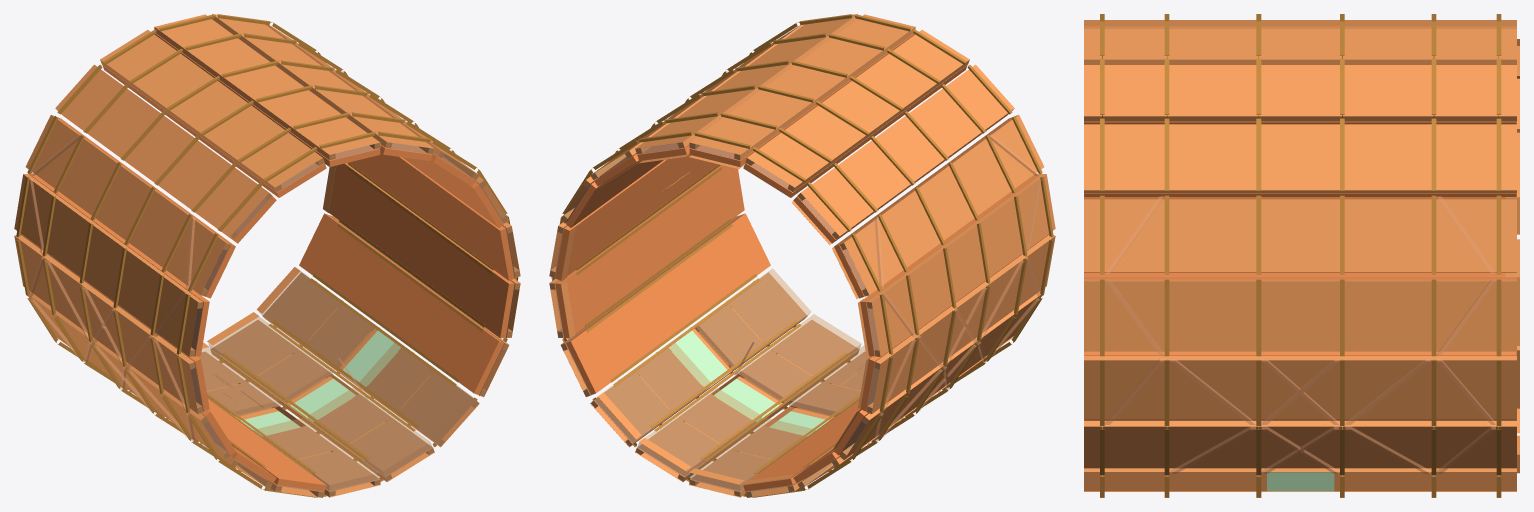
Rendered from TOF.glb.
The picture shows the model from 3 angles, left to right: view 1: azimuth 30°, elevation 25°; view 2: azimuth 150°, elevation 25°; view 3: azimuth 270°, elevation 25°; orthographic projection. The views are drawn at different scales.
Parts seen in each view (by area): view 1: FLTA_0.001, FCOV_0.017, FCOV_0.019, FLTA_0.003, FCOV_0.015, FCOV_0.021, FCOV_0.013, FCOV_0.023, FLTA_0.005, FLTB_0.005, FLTC_0.005, FLTB_0.003 (+44 smaller); view 2: FLTA_0.001, FCOV_0.017, FCOV_0.019, FLTA_0.003, FCOV_0.015, FCOV_0.021, FCOV_0.013, FCOV_0.023, FLTA_0.005, FLTB_0.005, FLTC_0.005, FLTB_0.003 (+44 smaller); view 3: FCOV_0.007, FCOV_0.005, FCOV_0.009, FCOV_0.003, FCOV_0.011, FCOV_0.001, FCOV_0.013, FCOB_1.005, FCOB_2.005, FCOV_0.015, FSAW_2.007, FSAW_1.017 (+24 smaller).
Boxes of the visible parts, x1,y1,x2,y2 form: FLTA_0.001: (299, 213, 503, 394); FCOV_0.017: (55, 64, 268, 236); FCOV_0.019: (25, 115, 225, 294); FLTA_0.003: (328, 163, 514, 338); FCOV_0.015: (100, 30, 322, 187); FCOV_0.021: (14, 174, 198, 356); FCOV_0.013: (154, 14, 379, 154); FCOV_0.023: (14, 236, 198, 413); FLTA_0.005: (349, 153, 514, 280); FLTB_0.005: (359, 343, 474, 442); FLTC_0.005: (259, 271, 374, 370); FLTB_0.003: (307, 388, 432, 476); FLTA_0.001: (566, 213, 770, 394); FCOV_0.017: (801, 64, 1014, 236); FCOV_0.019: (844, 115, 1044, 294); FLTA_0.003: (555, 165, 744, 338); FCOV_0.015: (747, 30, 969, 187); FCOV_0.021: (871, 174, 1055, 356); FCOV_0.013: (690, 14, 915, 154); FCOV_0.023: (871, 236, 1055, 413); FLTA_0.005: (555, 154, 718, 280); FLTB_0.005: (695, 268, 810, 370); FLTC_0.005: (595, 343, 710, 442); FLTB_0.003: (737, 314, 861, 402); FCOV_0.007: (1084, 199, 1516, 271); FCOV_0.005: (1084, 281, 1516, 351); FCOV_0.009: (1084, 124, 1516, 190); FCOV_0.003: (1084, 360, 1516, 419); FCOV_0.011: (1084, 65, 1516, 116); FCOV_0.001: (1084, 426, 1516, 468); FCOV_0.013: (1084, 29, 1516, 59); FCOB_1.005: (1334, 472, 1516, 490); FCOB_2.005: (1084, 472, 1266, 490); FCOV_0.015: (1084, 20, 1516, 26); FSAW_2.007: (1084, 420, 1516, 426); FSAW_1.017: (1084, 116, 1516, 121).
Size of the model in its own units: 831 by 820 by 746.
